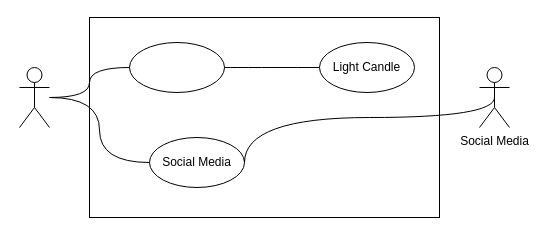
Image size: 546x235. Some labels were removed from this diagram. Here are the shapes that lost their labels. From the top down, the centre of each, then its label:
At (x=176, y=67): "Throw Fireballs".
At (x=34, y=97): "Player".
